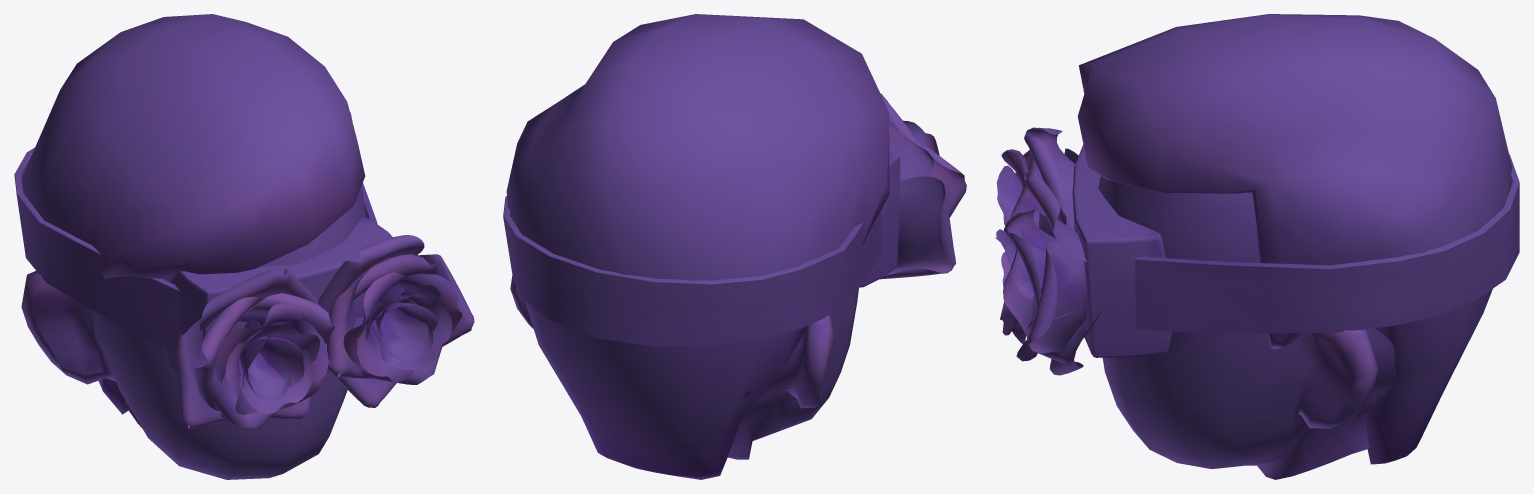
The model's file is rosehead2.fbx.
3 renders of one model, left to right at view 1: azimuth 30°, elevation 25°; view 2: azimuth 150°, elevation 25°; view 3: azimuth 270°, elevation 25°, orthographic. The views are drawn at different scales.
Parts seen in each view (by area): view 1: polySurface1, polySurface5, polySurface14, polySurface13, pCylinder1, pCube1; view 2: polySurface1, pCylinder1, polySurface14, polySurface5, pCube1; view 3: polySurface1, polySurface5, pCylinder1, polySurface13, pCube1, polySurface14.
Part boxes in pixels (x1=…): polySurface1: x1=21, y1=14, x2=365, y2=414; polySurface5: x1=21, y1=185, x2=365, y2=479; polySurface14: x1=176, y1=268, x2=335, y2=429; polySurface13: x1=318, y1=235, x2=474, y2=407; pCylinder1: x1=14, y1=147, x2=377, y2=353; pCube1: x1=166, y1=218, x2=392, y2=374; polySurface1: x1=506, y1=14, x2=889, y2=479; pCylinder1: x1=503, y1=196, x2=881, y2=346; polySurface14: x1=880, y1=93, x2=966, y2=279; polySurface5: x1=510, y1=275, x2=858, y2=459; pCube1: x1=859, y1=151, x2=900, y2=287; polySurface1: x1=1077, y1=14, x2=1512, y2=464; polySurface5: x1=1098, y1=176, x2=1396, y2=479; pCylinder1: x1=1135, y1=154, x2=1519, y2=333; polySurface13: x1=995, y1=176, x2=1102, y2=375; pCube1: x1=1072, y1=144, x2=1171, y2=357; polySurface14: x1=996, y1=127, x2=1078, y2=230.
Size of the model in its own units: 1.63 by 2.08 by 2.2.
